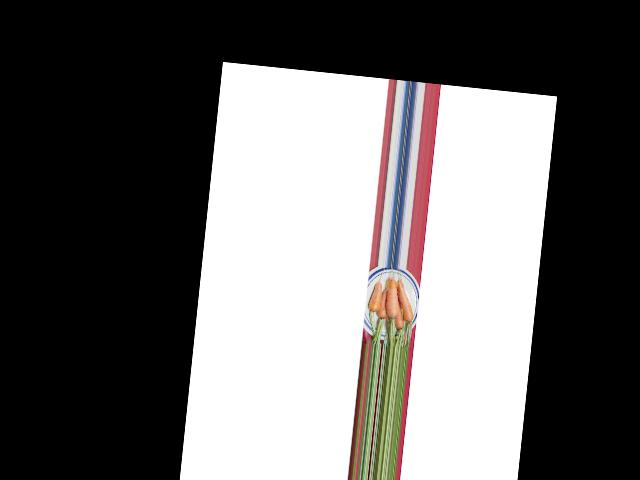carrot: (365, 280, 384, 315)
